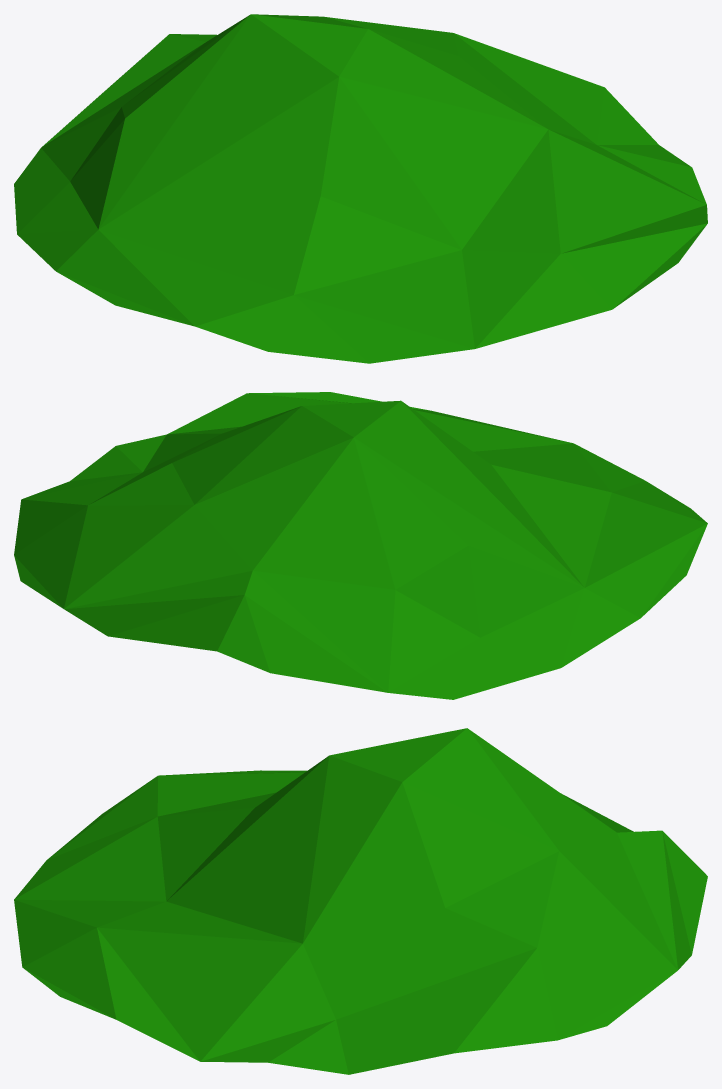
Rendered from hill_1.fbx.
The picture shows the model from 3 angles, top to bottom: view 1: azimuth 30°, elevation 25°; view 2: azimuth 150°, elevation 25°; view 3: azimuth 270°, elevation 25°; orthographic projection. The views are drawn at different scales.
Parts seen in each view (by area): view 1: Plane; view 2: Plane; view 3: Plane.
Boxes of the visible parts, x1,y1,x2,y2 form: Plane: (14, 14, 707, 363); Plane: (14, 392, 707, 699); Plane: (14, 728, 707, 1074).
Size of the model in its own units: 8473 by 2426 by 8497.
